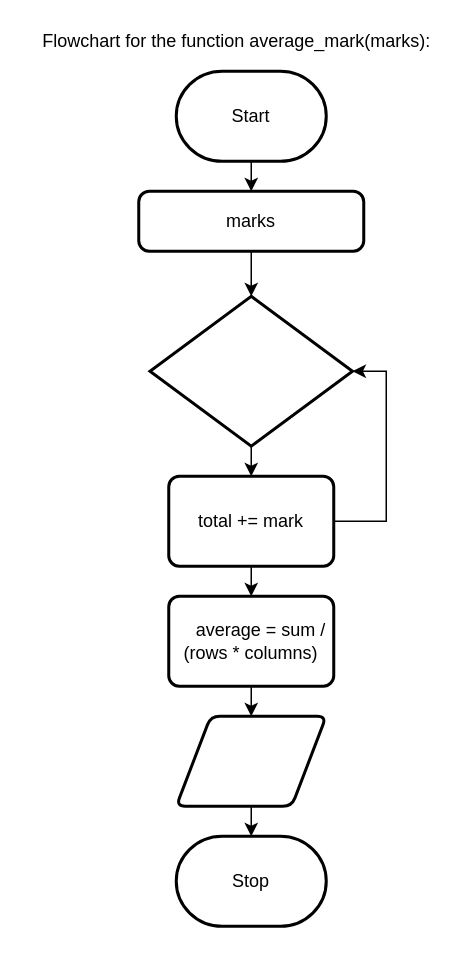
Image size: 471x953. Some labels were removed from this diagram. Each missing label, with the centre of its shape:
for mark in marks:: pixel 250 370
return average: pixel 250 760
